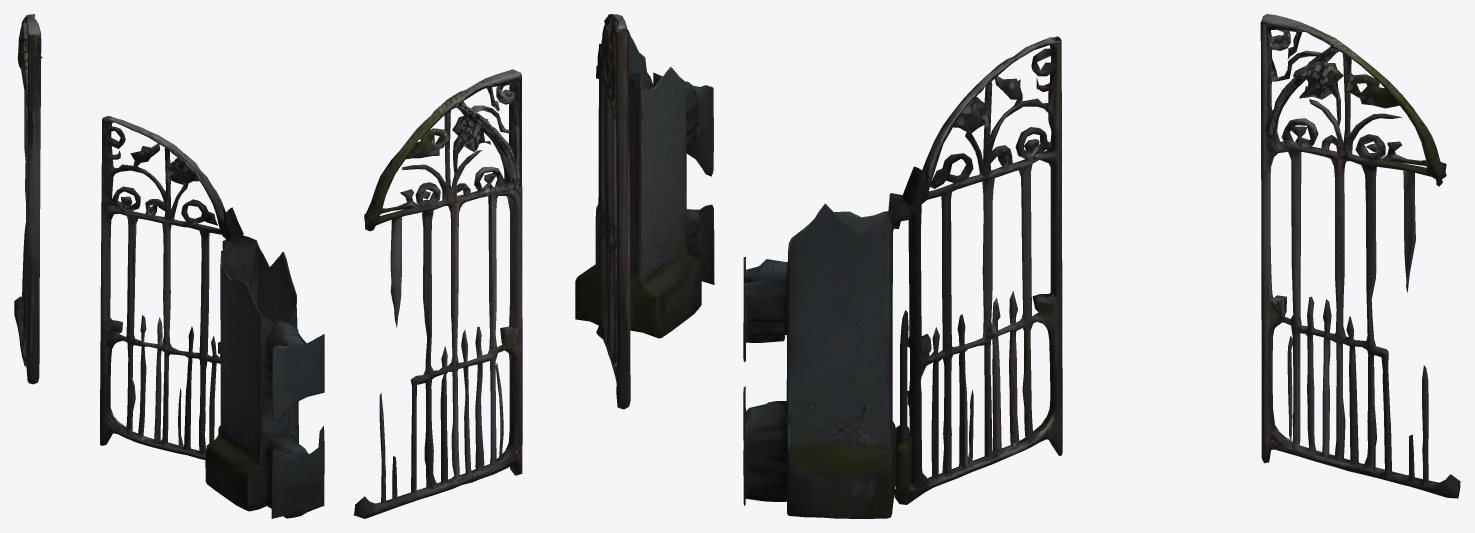
The model's file is metalGate.fbx.
3 views of the same model, side by side, from view 1: azimuth 30°, elevation 25°; view 2: azimuth 150°, elevation 25°; view 3: azimuth 270°, elevation 25° (orthographic). The views are drawn at different scales.
Visible parts, largest first — view 1: tripo_node_88be2511; view 2: tripo_node_88be2511; view 3: tripo_node_88be2511.
Boxes of the visible parts, x1,y1,x2,y2 form: tripo_node_88be2511: [14, 14, 324, 518]; tripo_node_88be2511: [353, 14, 714, 518]; tripo_node_88be2511: [743, 14, 1460, 518].
Bounding box in the file's own units: 0.2329 × 0.6878 × 0.9997.
1 material, 1 textured.
